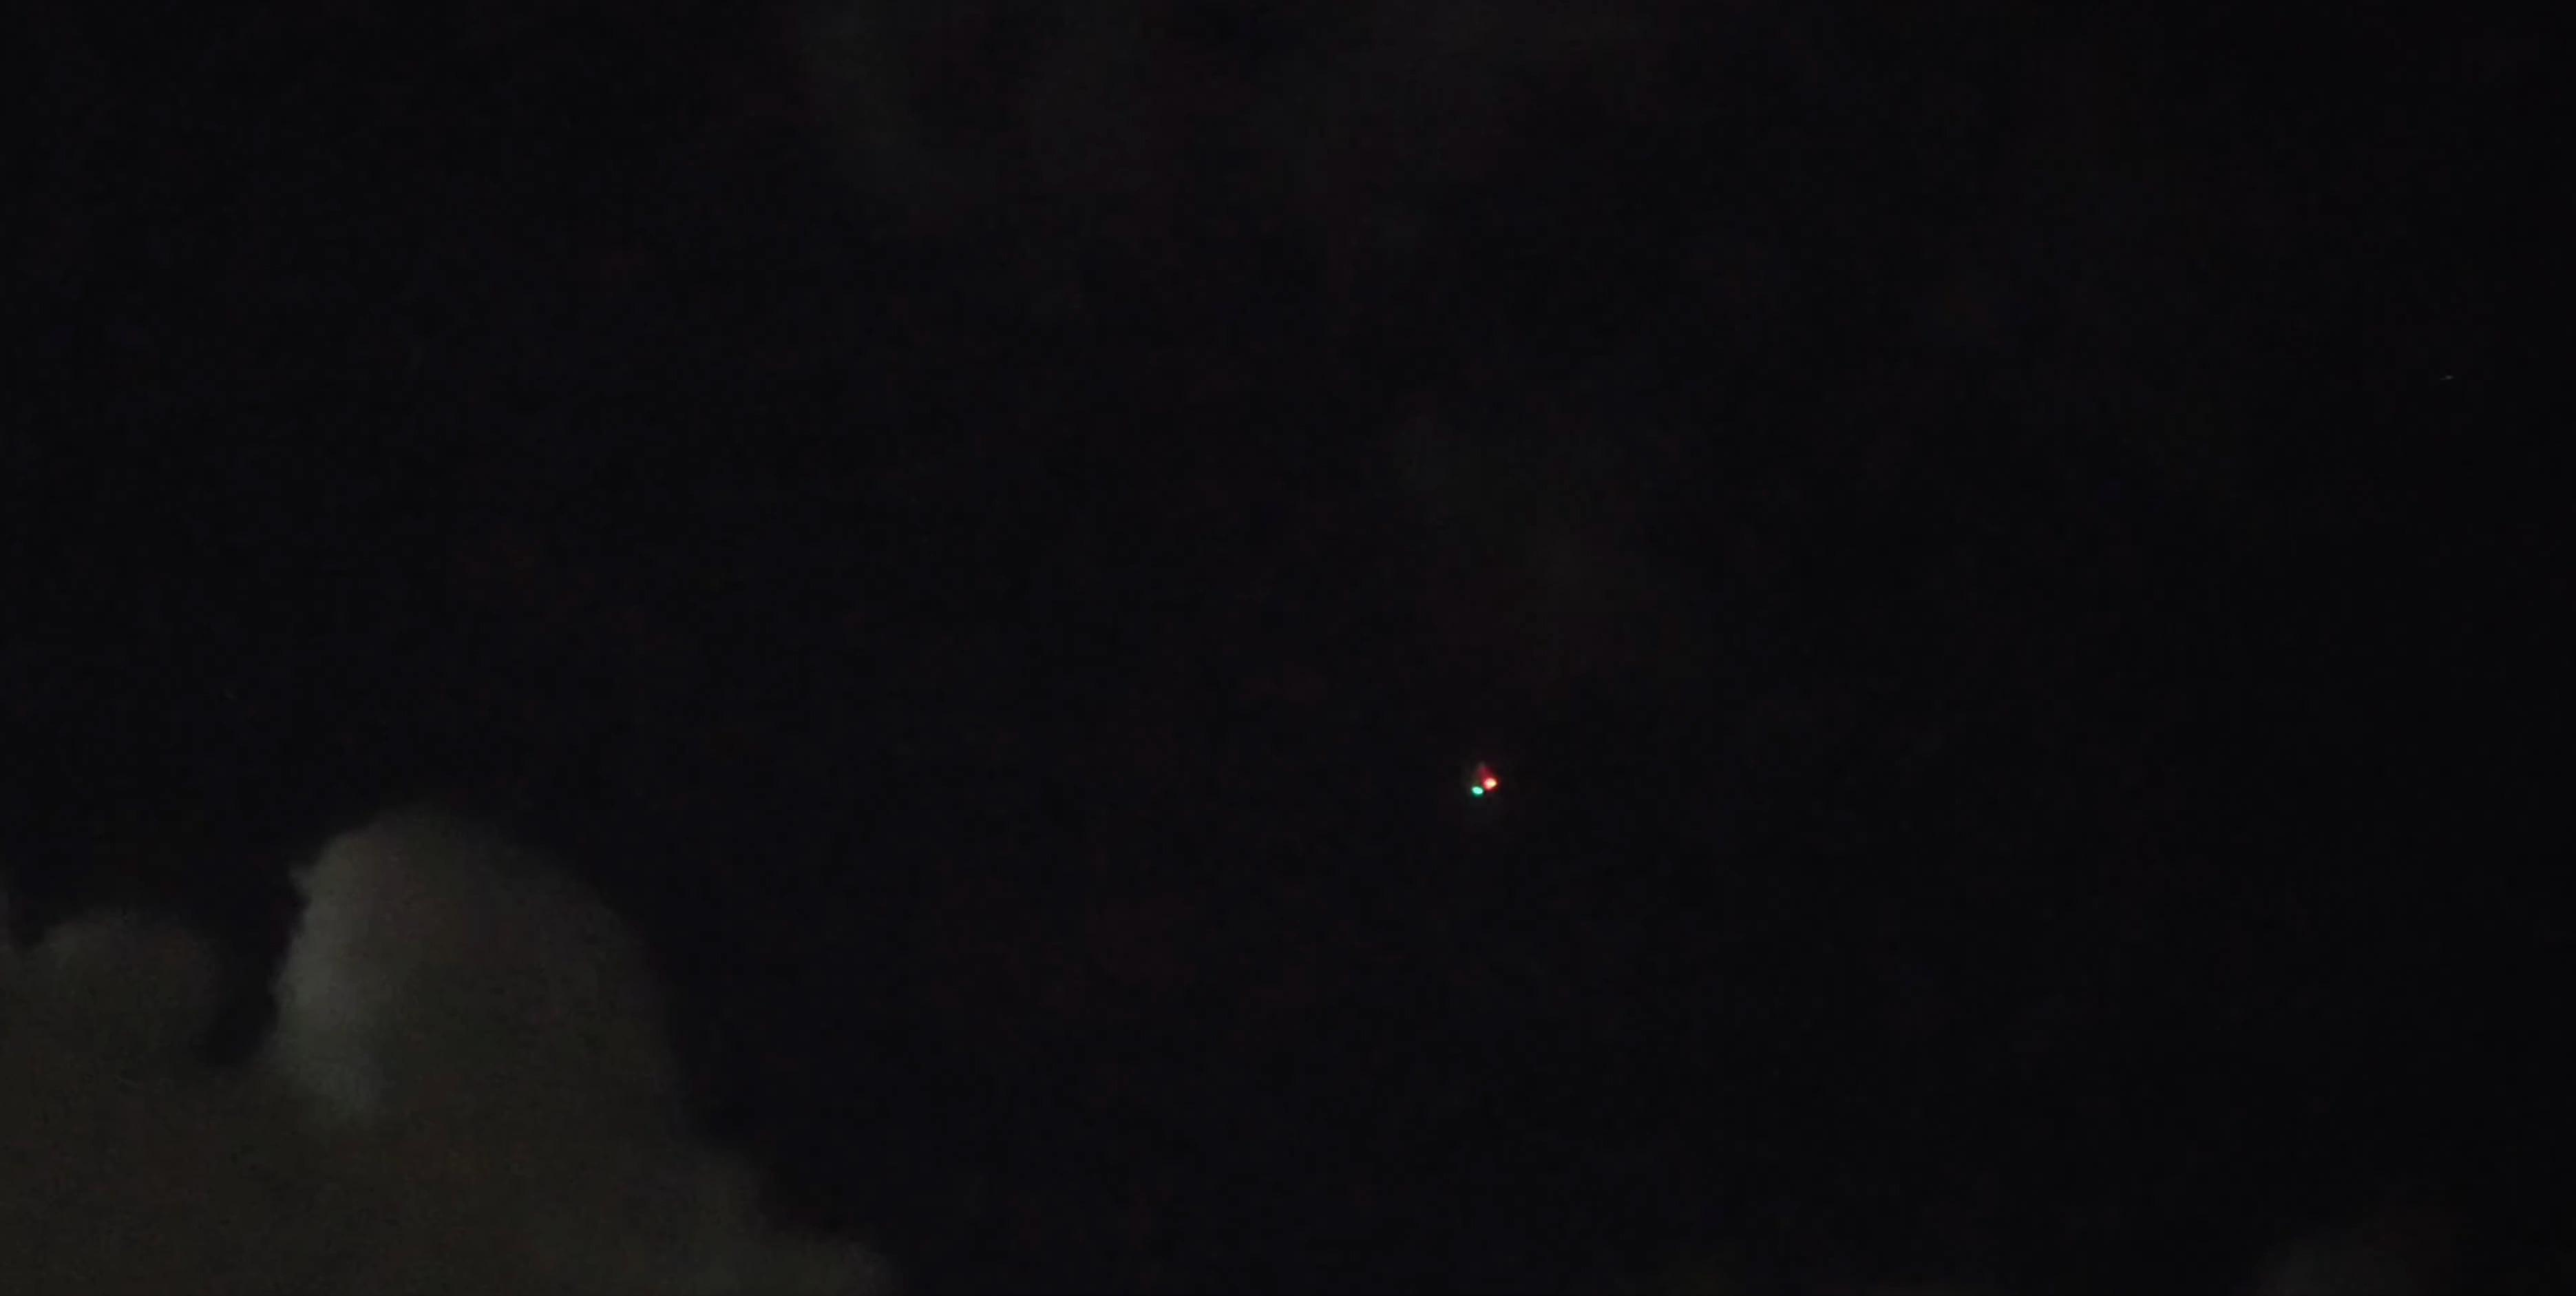Plane: (1403, 737, 1565, 825)
